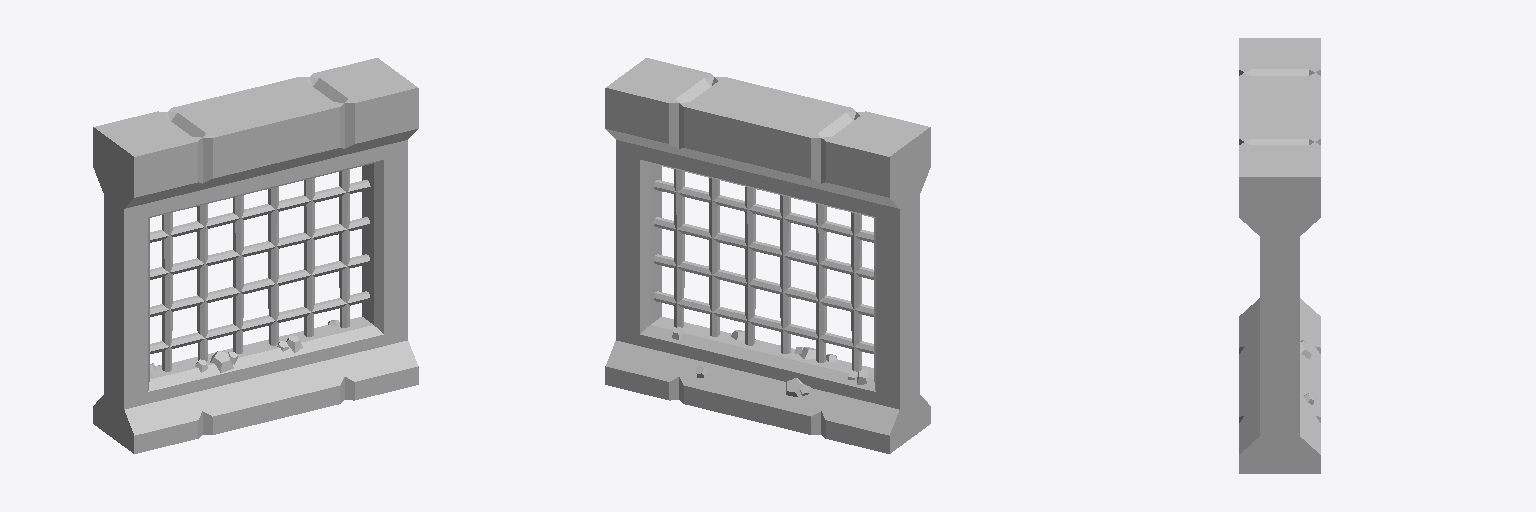
Rendered from wall_gated.obj.
3 renders of one model, left to right at view 1: azimuth 30°, elevation 25°; view 2: azimuth 150°, elevation 25°; view 3: azimuth 270°, elevation 25°, orthographic.
Parts seen in each view (by area): view 1: wall_gated; view 2: wall_gated; view 3: wall_gated.
Boxes of the visible parts, x1,y1,x2,y2 form: wall_gated: [93, 58, 418, 453]; wall_gated: [605, 58, 930, 453]; wall_gated: [1239, 38, 1320, 473].
Size of the model in its own units: 4 by 4 by 1.